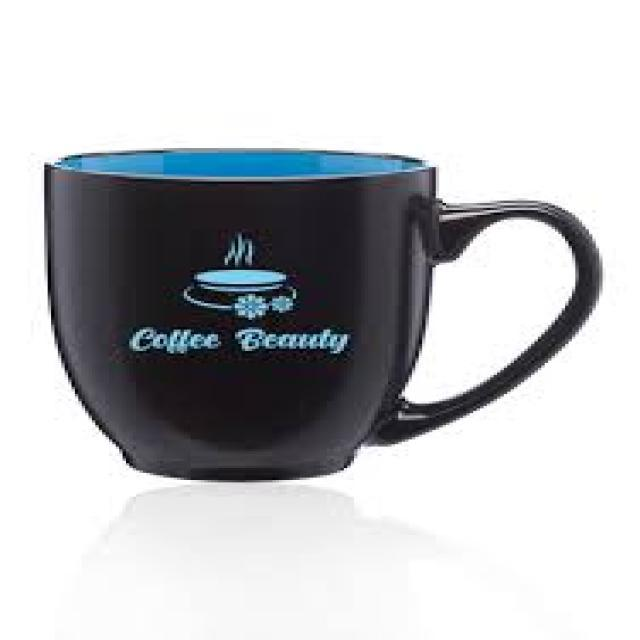taza: (42, 146, 606, 486)
